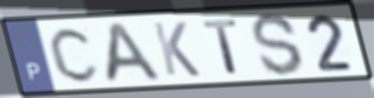2: (302, 10, 359, 76)
A: (102, 19, 166, 86)
C: (47, 25, 103, 85)
K: (150, 20, 203, 79)
S: (249, 11, 307, 78)
T: (200, 17, 242, 76)
